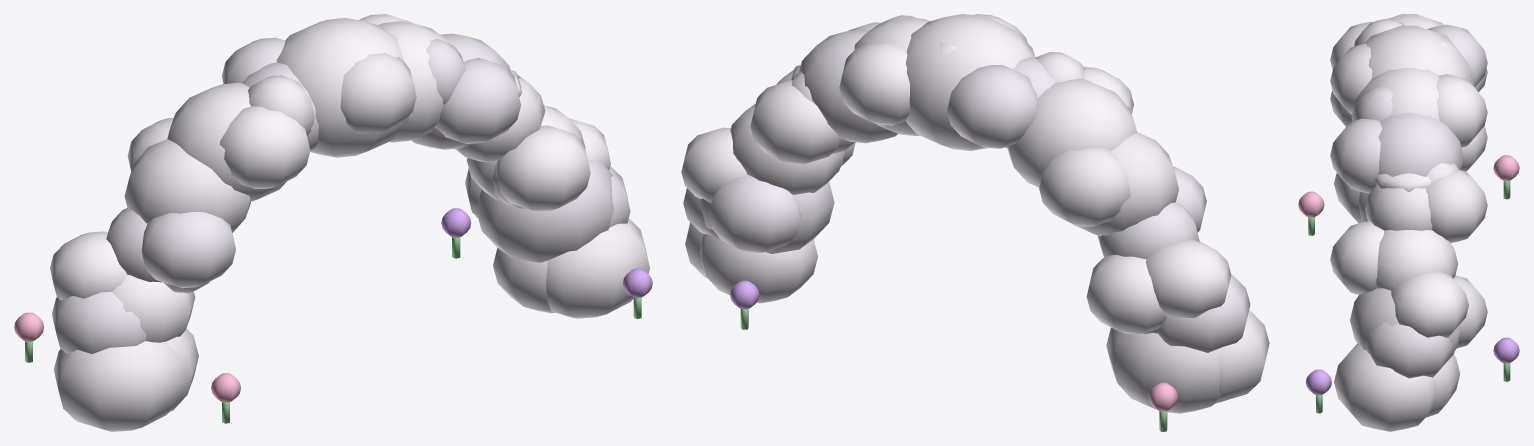
The model's file is cozy_bridge_arch_A.glb.
3 renders of one model, left to right at view 1: azimuth 30°, elevation 25°; view 2: azimuth 150°, elevation 25°; view 3: azimuth 270°, elevation 25°, orthographic. The views are drawn at different scales.
Visible parts, largest first — view 1: AbL0, Key, Seg1, AbR0, Seg9, Outer1, Outer9, Outer7, Outer3, Seg8, Outer5, AbL1 (+20 smaller); view 2: Key, Seg8, Seg12, Outer6, Outer8, Outer0, AbL2, Outer2, Seg0, Outer4, Outer10, Seg9 (+16 smaller); view 3: AbR0, Seg4, Key, AbR2, Seg2, AbR1, Outer2, Outer3, Outer1, Seg5, Outer4, Seg3 (+19 smaller).
Part boxes in pixels (box(x1,y1,x2,y2)): AbL0: box(53, 341, 185, 431); Key: box(276, 18, 409, 157); Seg1: box(476, 159, 613, 262); AbR0: box(546, 218, 649, 318); Seg9: box(124, 139, 250, 232); Outer1: box(495, 125, 590, 211); Outer9: box(141, 212, 235, 288); Outer7: box(220, 106, 310, 189); Outer3: box(434, 57, 520, 143); Seg8: box(167, 82, 286, 201); Outer5: box(340, 53, 416, 133); AbL1: box(52, 292, 146, 353); Key: box(905, 14, 1035, 150); Seg8: box(1007, 78, 1137, 187); Seg12: box(1106, 327, 1221, 413); Outer6: box(947, 65, 1037, 148); Outer8: box(1039, 148, 1130, 226); Outer0: box(708, 174, 801, 252); AbL2: box(1145, 239, 1231, 318); Outer2: box(750, 80, 840, 164); Seg0: box(699, 234, 817, 303); Outer4: box(839, 41, 909, 125); Outer10: box(1086, 254, 1167, 334); Seg9: box(1073, 132, 1178, 235); AbR0: box(1334, 343, 1437, 431); Seg4: box(1377, 113, 1463, 176); Key: box(1365, 25, 1474, 87); AbR2: box(1391, 271, 1468, 337); Seg2: box(1376, 230, 1457, 290); AbR1: box(1365, 322, 1454, 378); Outer2: box(1426, 169, 1487, 242); Outer3: box(1330, 118, 1382, 193); Outer1: box(1330, 221, 1383, 294); Seg5: box(1351, 68, 1439, 121); Outer4: box(1436, 74, 1487, 147); Seg3: box(1365, 185, 1432, 230).
Bounding box in the file's own units: 3.16 × 1.75 × 1.18.
